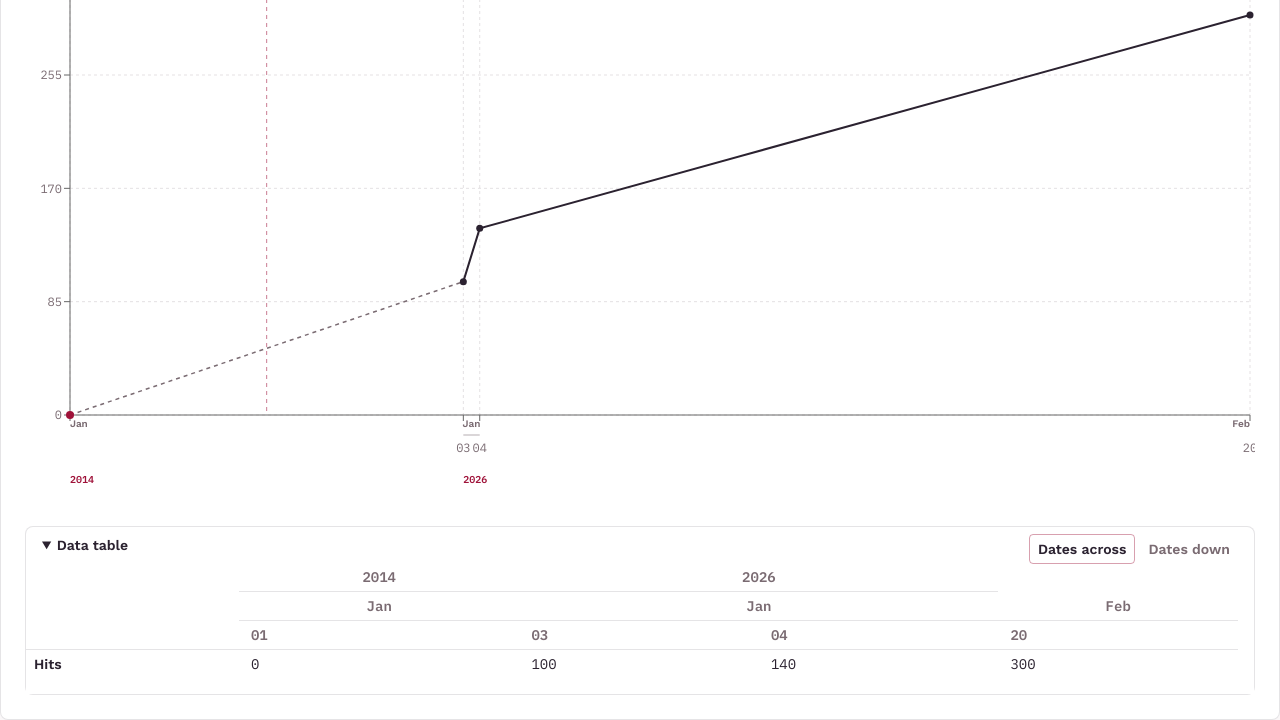
Test case: TrendChart: pin via table header (§3 item 3, D5) › pins the lead-in column just as validly as a real date column (C3b)
(page scrolled)
Click the button "01": (259, 635) x1=251 y1=625 x2=268 y2=645
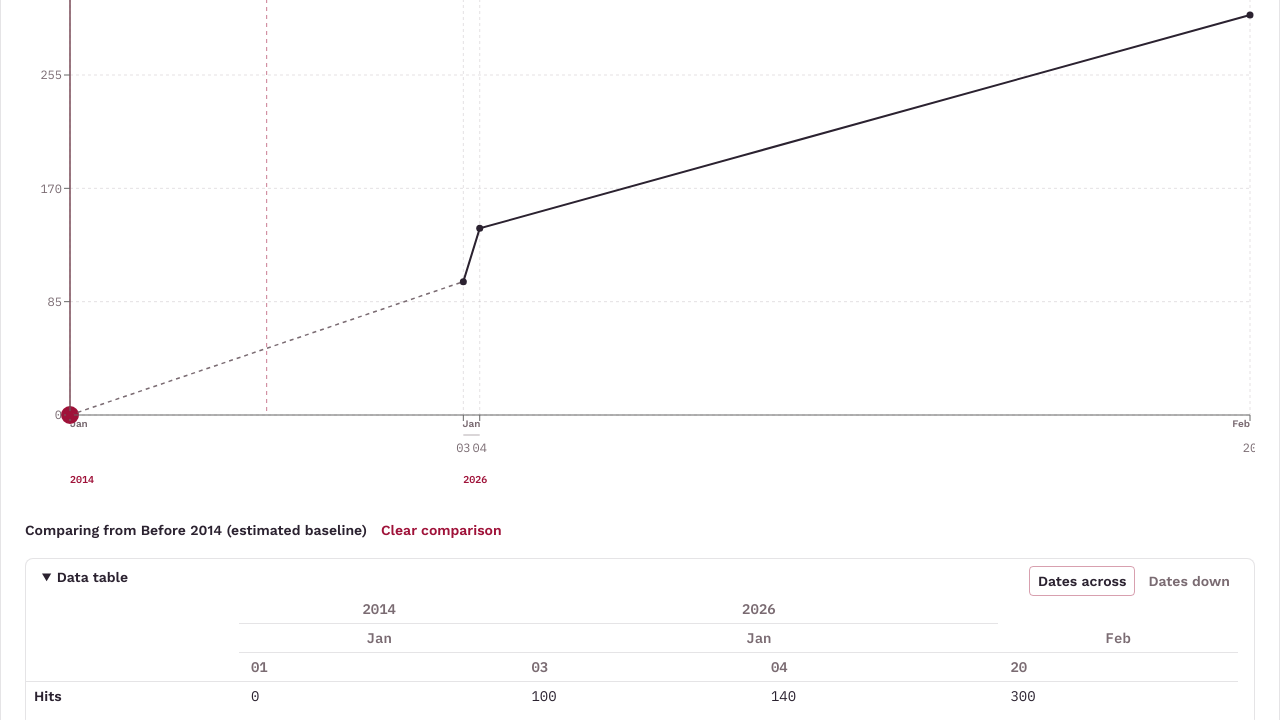
Expected: the text "Comparing from Before 2014 (estimated baseline)" is shown, x1=25 y1=520 x2=367 y2=540
